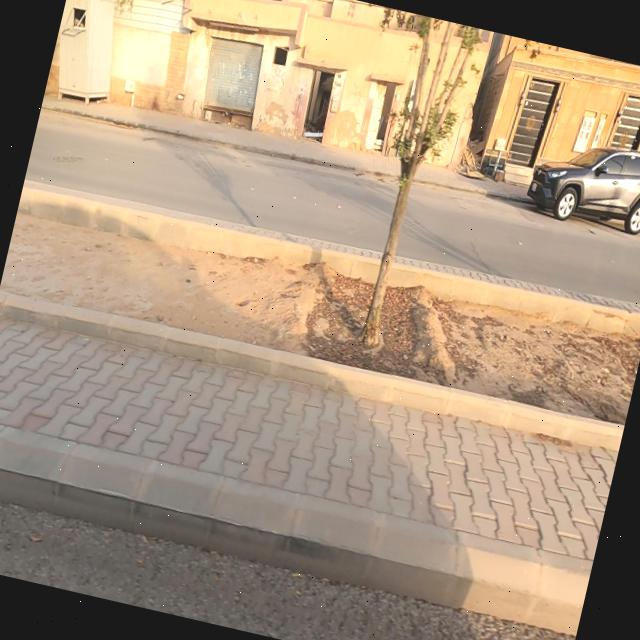Graffiti: (202, 55, 257, 110), (259, 67, 301, 101), (344, 81, 369, 114)
